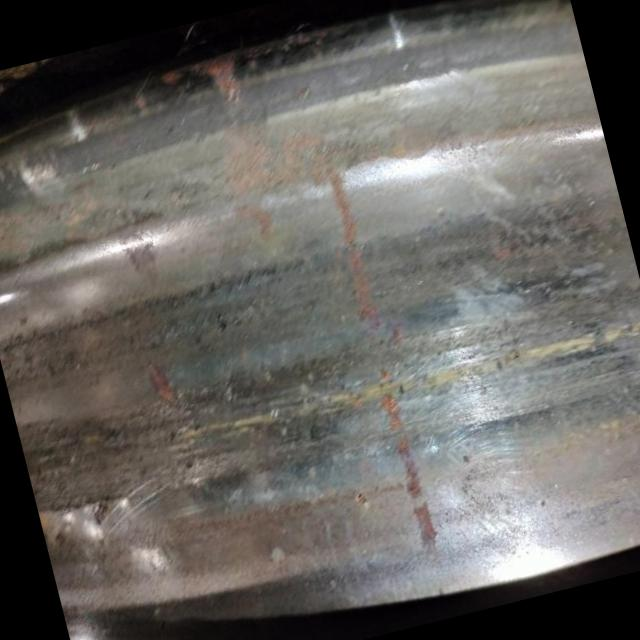Contact_Fatigue_Cracks: (34, 275, 230, 356)
Peeling: (147, 365, 182, 416)
